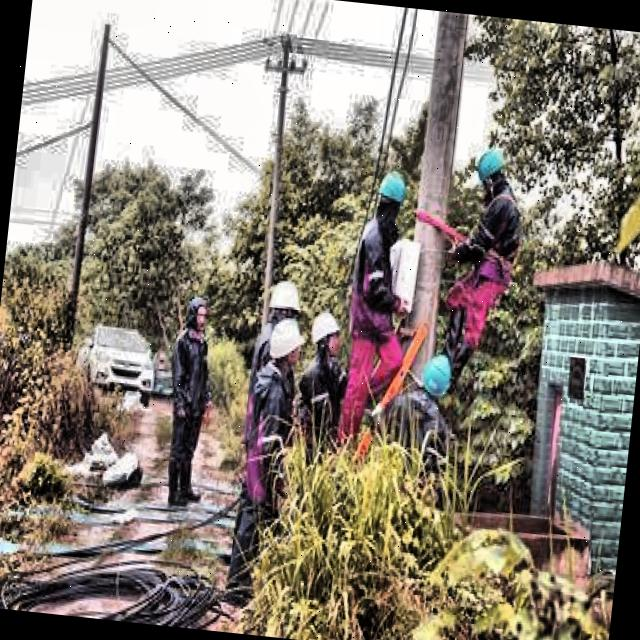helmet: (367, 164, 411, 232), (260, 274, 302, 335), (266, 312, 306, 369), (414, 350, 454, 406), (308, 308, 344, 368), (474, 146, 511, 202)
